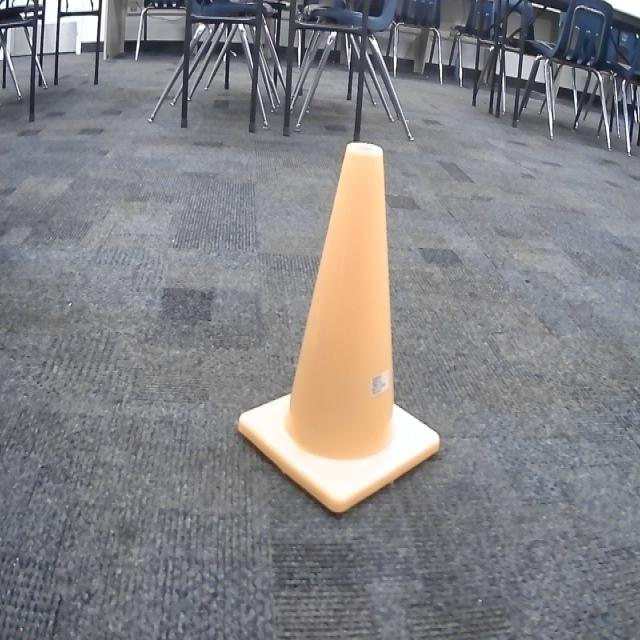cone: (234, 138, 444, 515)
